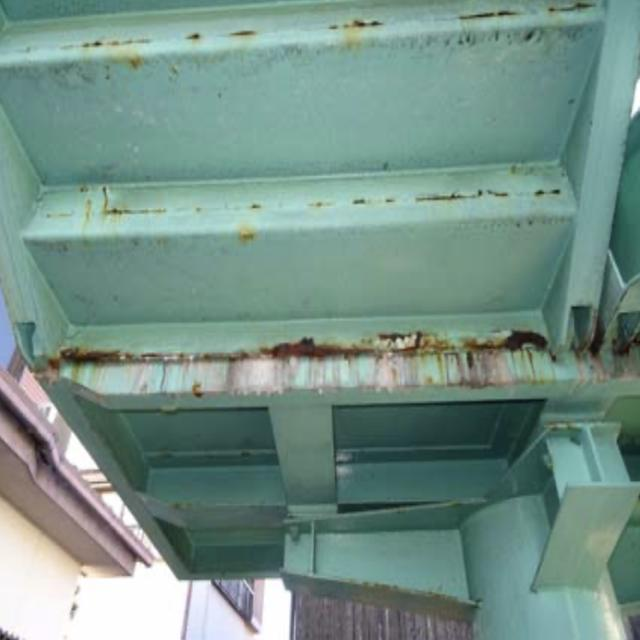corrosion: (37, 328, 640, 392)
